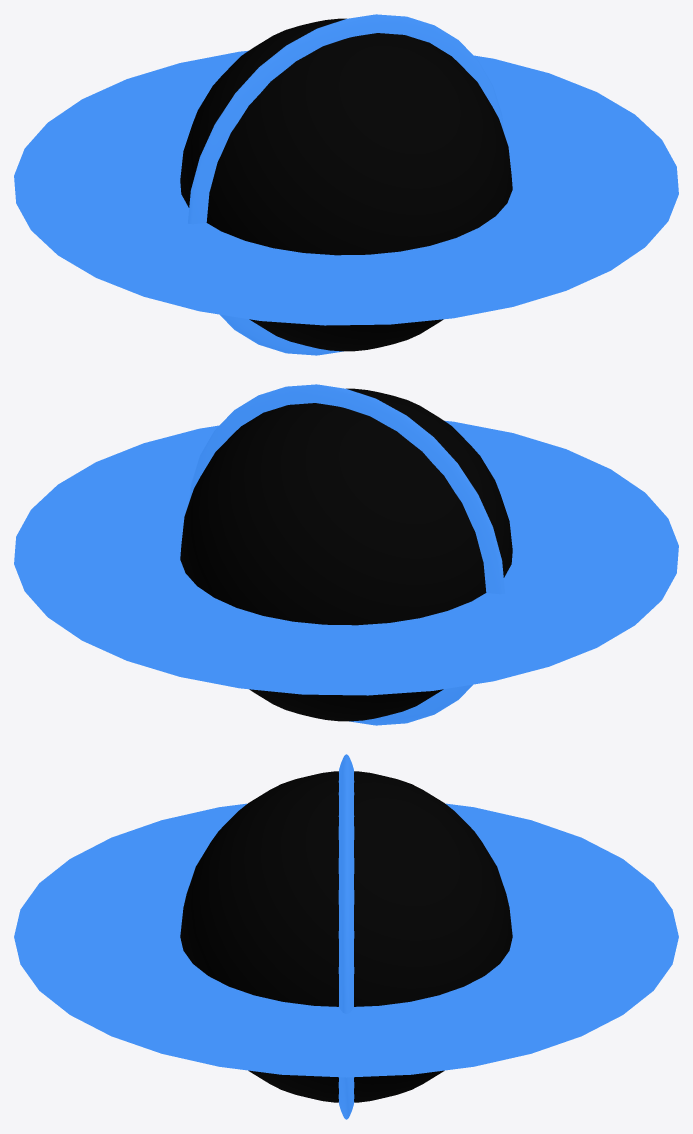
The model's file is blackHole.gltf.
3 renders of one model, top to bottom at view 1: azimuth 30°, elevation 25°; view 2: azimuth 150°, elevation 25°; view 3: azimuth 270°, elevation 25°, orthographic.
Visible parts, largest first — view 1: Sphere001, Sphere, Sphere002; view 2: Sphere001, Sphere, Sphere002; view 3: Sphere001, Sphere, Sphere002.
Boxes of the visible parts, left/top/right/bottom form: Sphere001: left=14, top=50, right=678, bottom=325; Sphere: left=180, top=18, right=512, bottom=351; Sphere002: left=188, top=14, right=503, bottom=355; Sphere001: left=14, top=420, right=678, bottom=695; Sphere: left=180, top=388, right=512, bottom=721; Sphere002: left=189, top=384, right=504, bottom=725; Sphere001: left=14, top=803, right=678, bottom=1077; Sphere: left=180, top=771, right=512, bottom=1102; Sphere002: left=338, top=754, right=354, bottom=1119.
Bounding box in the file's own units: 40 × 22 × 40.
